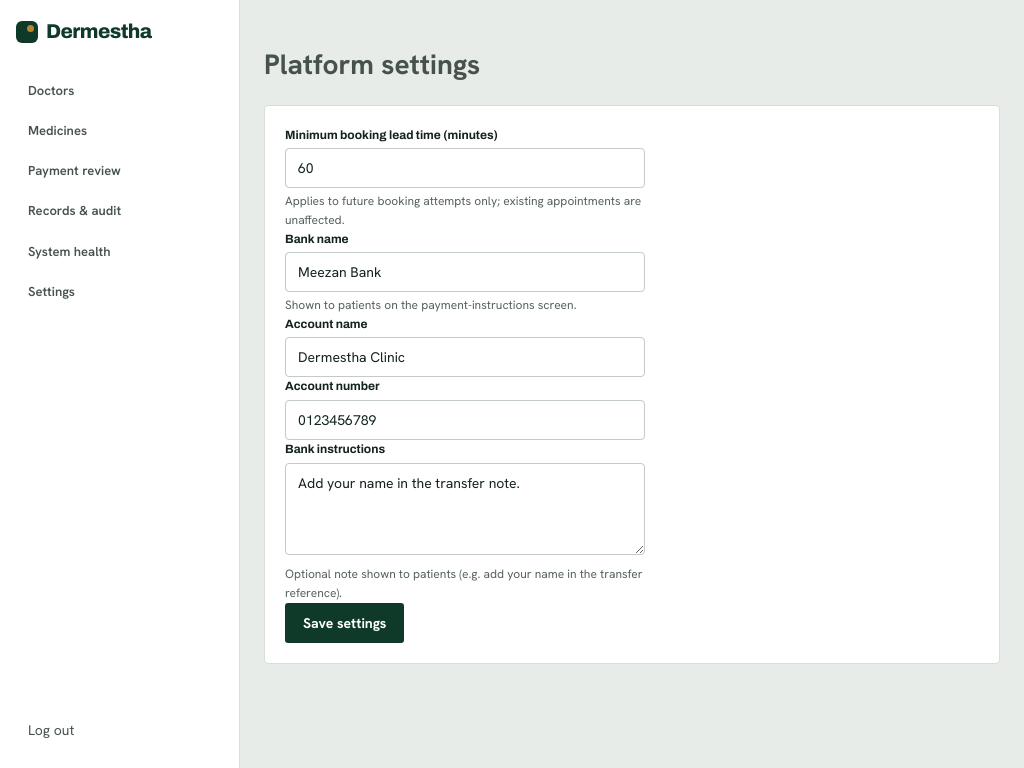
Scenario: AdminSettings (A-05) › PUT failure closes the modal and surfaces the error
The image size is (1024, 768).
Expected: the number field labelled "Minimum booking lead time (minutes)" is shown, [285,148,645,188]
Click the button "Save settings". click: click(345, 622)
box: [285,602,404,642]
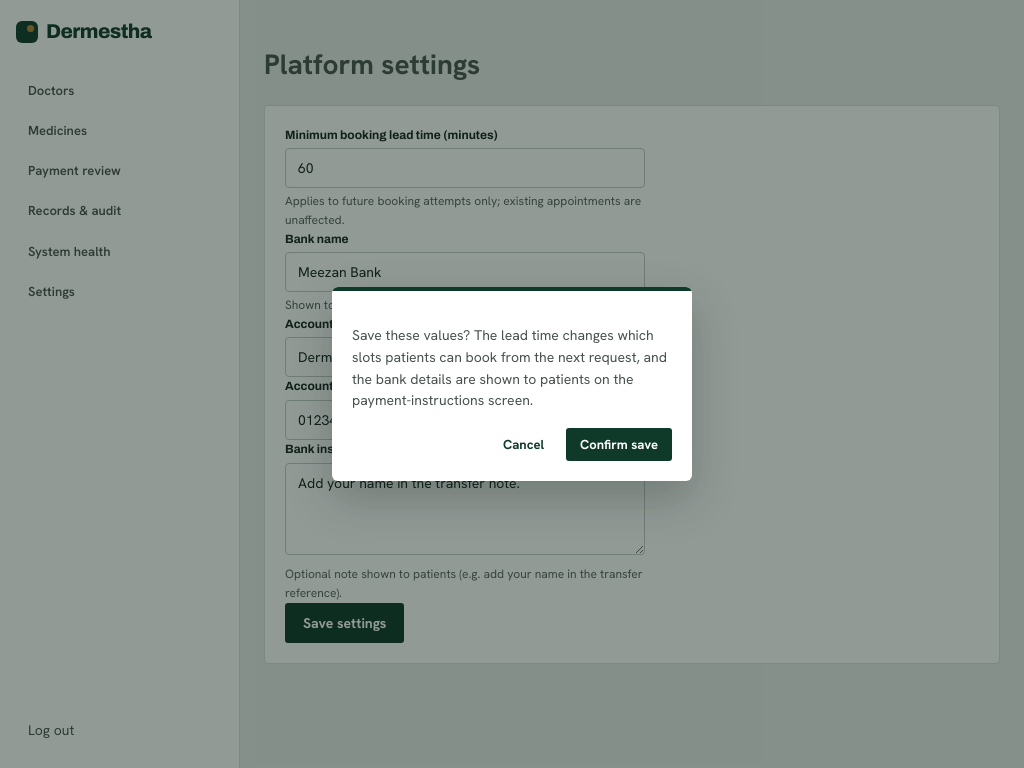
Click the button "Confirm save". click: click(619, 444)
box: [566,428,672,461]
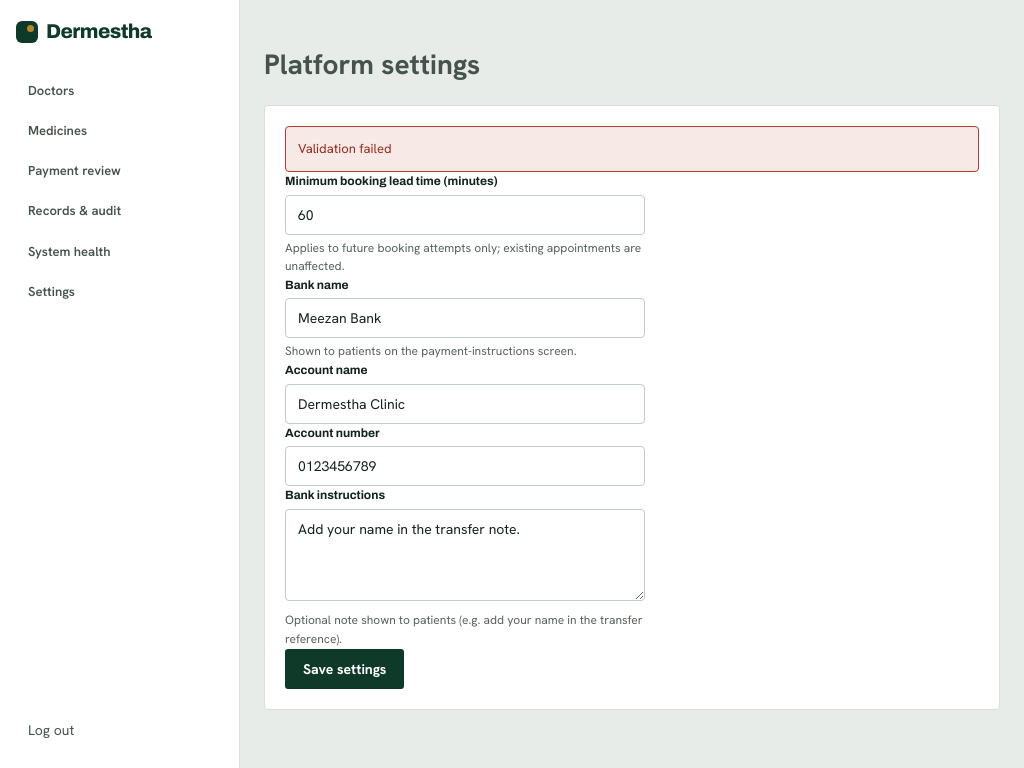
Expected: the text "Validation failed" is shown, [285,126,979,172]
Expected: the button "Confirm save" is gone
